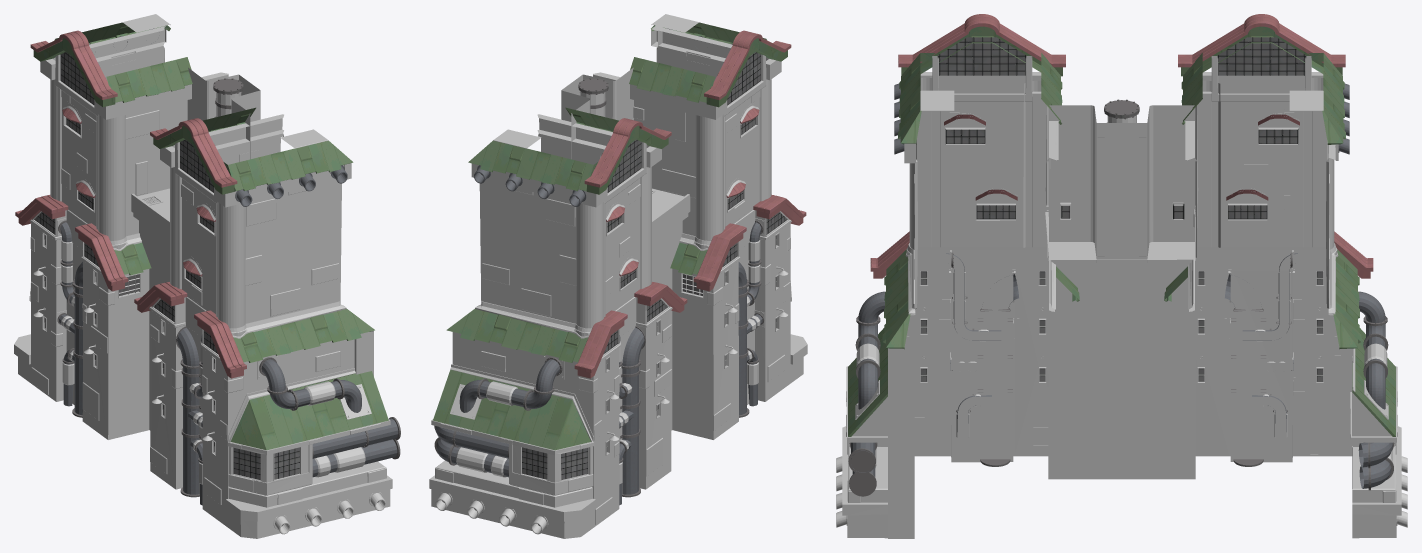
File: AreaD_Building_Ac.fbx
3 views of the same model, side by side, from view 1: azimuth 30°, elevation 25°; view 2: azimuth 150°, elevation 25°; view 3: azimuth 270°, elevation 25° (orthographic). The views are drawn at different scales.
Visible parts, largest first — view 1: SM_ENV_AMVLLG02_AreaD_Building_Ac.mo; view 2: SM_ENV_AMVLLG02_AreaD_Building_Ac.mo; view 3: SM_ENV_AMVLLG02_AreaD_Building_Ac.mo.
Boxes of the visible parts, bbox=[...] form: SM_ENV_AMVLLG02_AreaD_Building_Ac.mo: bbox=[14, 14, 400, 538]; SM_ENV_AMVLLG02_AreaD_Building_Ac.mo: bbox=[429, 14, 807, 538]; SM_ENV_AMVLLG02_AreaD_Building_Ac.mo: bbox=[836, 14, 1407, 538].
Bounding box in the file's own units: 1478 × 3213 × 3774.
